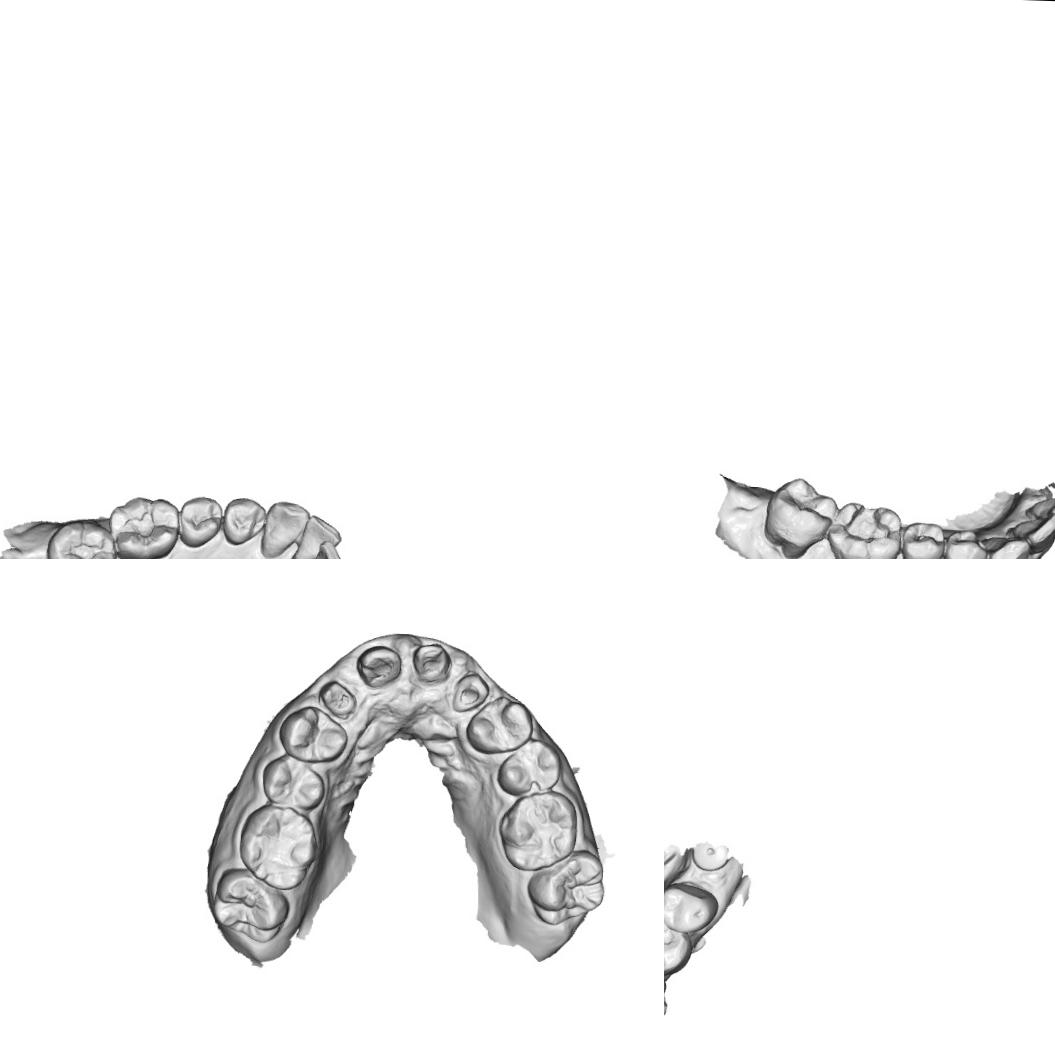canine: (259, 499, 311, 559), (980, 532, 1031, 559)
crown: (353, 643, 404, 691), (410, 641, 453, 685), (450, 671, 492, 714), (318, 679, 360, 720)
implant: (690, 841, 730, 874)
incisor: (292, 512, 344, 559), (1009, 511, 1055, 546), (1023, 490, 1055, 519), (300, 539, 343, 559)
inlay: (838, 500, 897, 550)
molar: (237, 804, 320, 892), (495, 788, 579, 874), (524, 846, 608, 928), (208, 866, 292, 946), (761, 475, 840, 559), (105, 493, 180, 559), (44, 518, 118, 559)
premolar: (276, 704, 351, 766), (464, 694, 536, 758), (495, 739, 562, 798), (259, 754, 328, 810), (664, 881, 719, 935), (175, 494, 224, 550), (220, 492, 268, 548), (900, 518, 947, 559), (664, 920, 693, 977), (942, 526, 988, 559)
